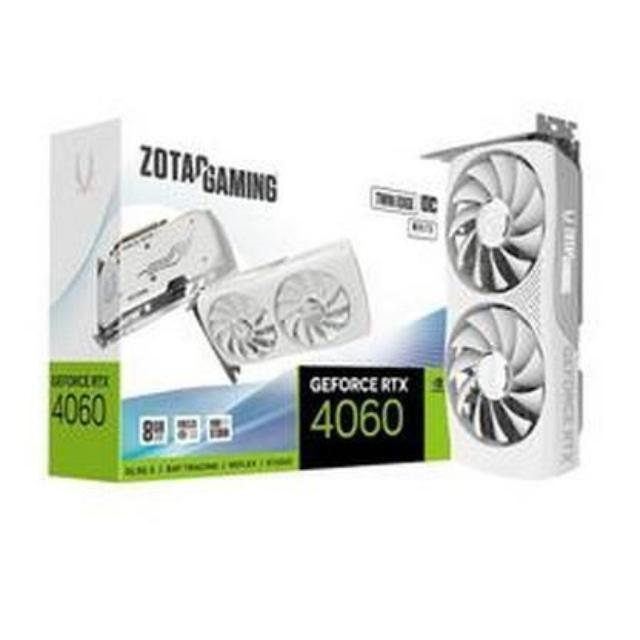GPU: (423, 100, 592, 491)
